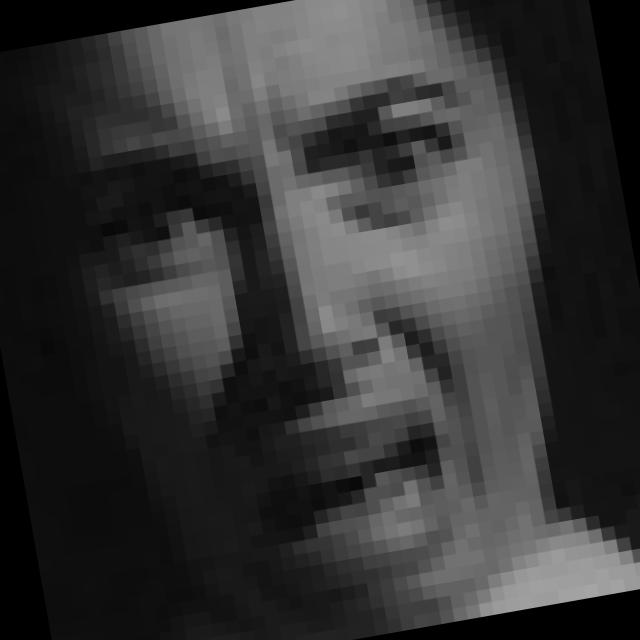fear: (62, 69, 547, 628)
